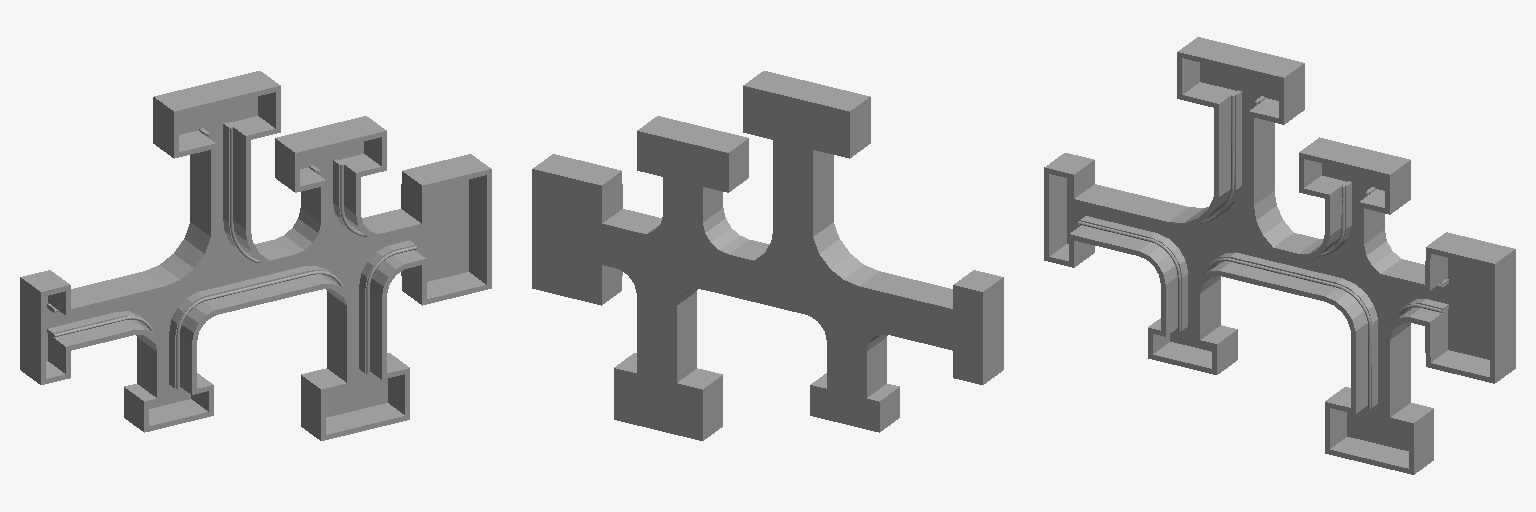
The robot description file, URDF, robot "파트1.SLDPRT":
<?xml version="1.0" encoding="utf-8"?>
<!-- This URDF was automatically created by SolidWorks to URDF Exporter! Originally created by [author] ([email redacted]) 
     Commit Version: 1.5.1-0-g916b5db  Build Version: 1.5.7152.31018
     For more information, please see http://wiki.ros.org/sw_urdf_exporter -->
<robot
  name="파트1.SLDPRT">
  <link
    name="part.SLDPRT">
    <inertial>
      <origin
        xyz="23.667 -0.6954 4.8804"
        rpy="0 0 0" />
      <mass
        value="1769400" />
      <inertia
        ixx="127010000"
        ixy="-633490.000000001"
        ixz="22868000"
        iyy="370470000"
        iyz="-38310.0000000075"
        izz="247560000" />
    </inertial>
    <visual>
      <origin
        xyz="0 0 0"
        rpy="1.5707963267949 0 0" />
      <geometry>
        <mesh
          filename="package://part.SLDPRT/meshes/part.SLDPRT.STL" />
      </geometry>
      <material
        name="">
        <color
          rgba="0.69804 0.69804 0.69804 1" />
        <texture
          filename="package://part.SLDPRT/textures/" />
      </material>
    </visual>
    <collision>
      <origin
        xyz="0 0 0"
        rpy="1.5707963267949 0 0" />
      <geometry>
        <mesh
          filename="package://part.SLDPRT/meshes/part.SLDPRT.STL" />
      </geometry>
    </collision>
  </link>
</robot>

--- What the picture shows (computed from the rendered views, not written in the file) ---
Views: 3 orthographic renders of the robot side by side, from view 1: azimuth 30°, elevation 25°; view 2: azimuth 150°, elevation 25°; view 3: azimuth 330°, elevation 25°.
Robot: 파트1.SLDPRT — 1 links, 0 joints (none); root link part.SLDPRT; default pose: all joints at 0.
Links seen in each view (by area): view 1: part.SLDPRT; view 2: part.SLDPRT; view 3: part.SLDPRT.
Boxes of the visible links, bbox=[...] form: part.SLDPRT: bbox=[20, 71, 491, 440]; part.SLDPRT: bbox=[532, 71, 1003, 440]; part.SLDPRT: bbox=[1044, 37, 1515, 474].
Bounding box of the posed robot: 45.5 × 3.6 × 35.29 m (x, y, z).
Meshes: 1 distinct files referenced, 1 mesh visuals loaded (1 binary STL).
